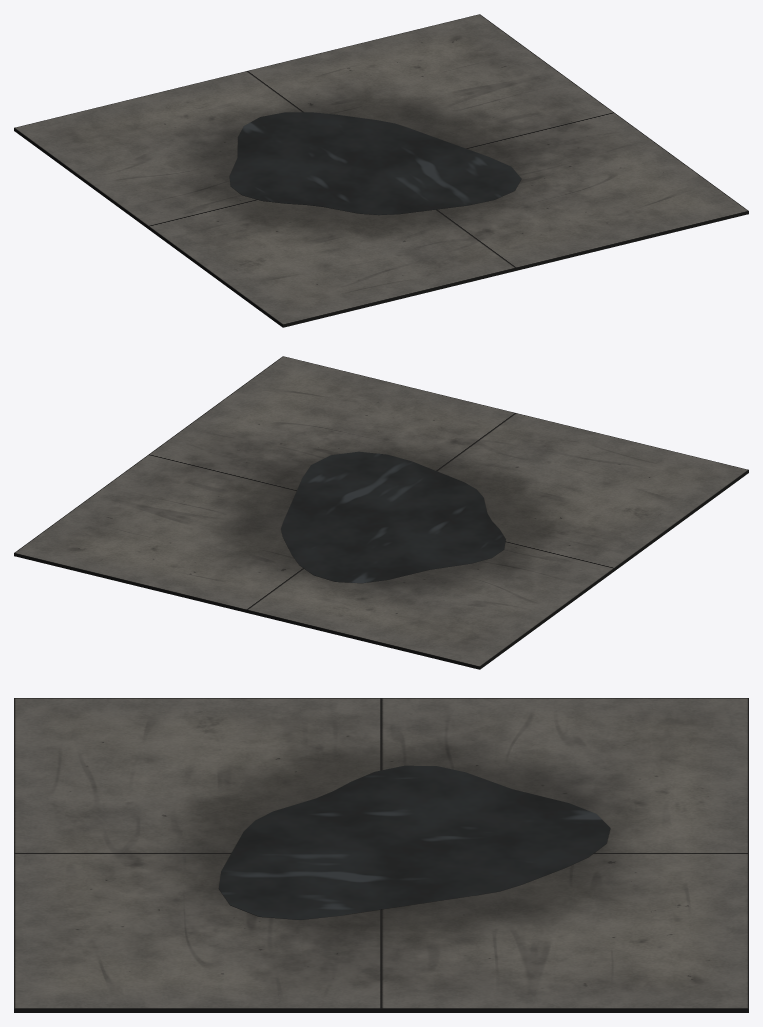
Rendered from floor_wet.fbx.
3 renders of one model, top to bottom at view 1: azimuth 30°, elevation 25°; view 2: azimuth 150°, elevation 25°; view 3: azimuth 270°, elevation 25°, orthographic. The views are drawn at different scales.
Visible parts, largest first — view 1: Body, Wet; view 2: Body, Wet; view 3: Body, Wet.
Boxes of the visible parts, x1,y1,x2,y2 form: Body: [14, 14, 748, 327]; Wet: [229, 112, 521, 215]; Body: [14, 356, 748, 669]; Wet: [281, 451, 505, 583]; Body: [14, 698, 748, 1012]; Wet: [219, 765, 610, 919].
Size of the model in its own units: 32 by 0.215 by 32.
Materials: 1 (1 with a texture image).
